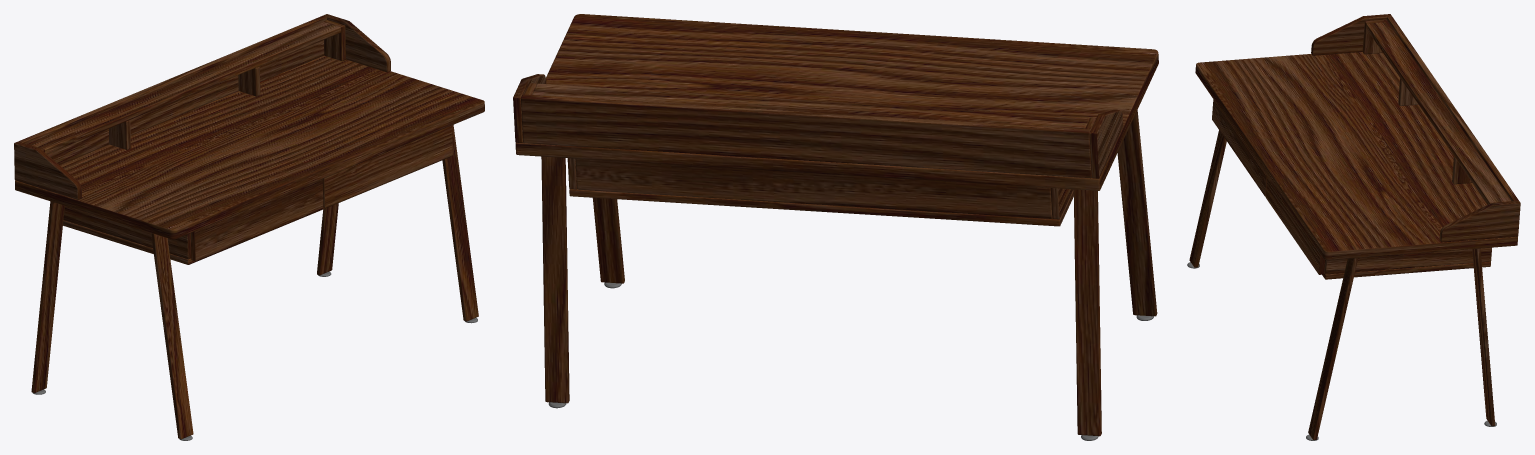
File: Table_Image-1.glb
3 renders of one model, left to right at view 1: azimuth 30°, elevation 25°; view 2: azimuth 150°, elevation 25°; view 3: azimuth 270°, elevation 25°, orthographic. The views are drawn at different scales.
Visible parts, largest first — view 1: main_mesh_n3d, drawer_001_mesh_n3d, drawer_002_mesh_n3d; view 2: main_mesh_n3d; view 3: main_mesh_n3d, drawer_002_mesh_n3d, drawer_001_mesh_n3d.
Part boxes in pixels (x1,y1,x2,y2): main_mesh_n3d: (14, 14, 484, 439); drawer_001_mesh_n3d: (191, 179, 323, 261); drawer_002_mesh_n3d: (323, 125, 452, 207); main_mesh_n3d: (513, 14, 1158, 436); main_mesh_n3d: (1189, 14, 1520, 439); drawer_002_mesh_n3d: (1265, 178, 1324, 274); drawer_001_mesh_n3d: (1212, 99, 1267, 196).
Size of the model in its own units: 0.8675 by 0.4951 by 0.6091.
4 materials, 1 textured.
